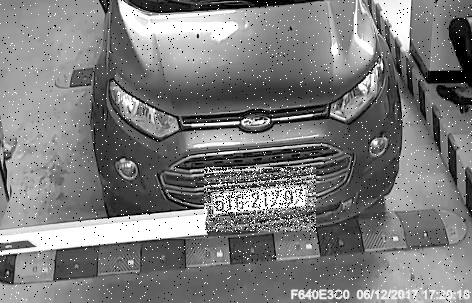License-plate: (205, 169, 317, 234)
